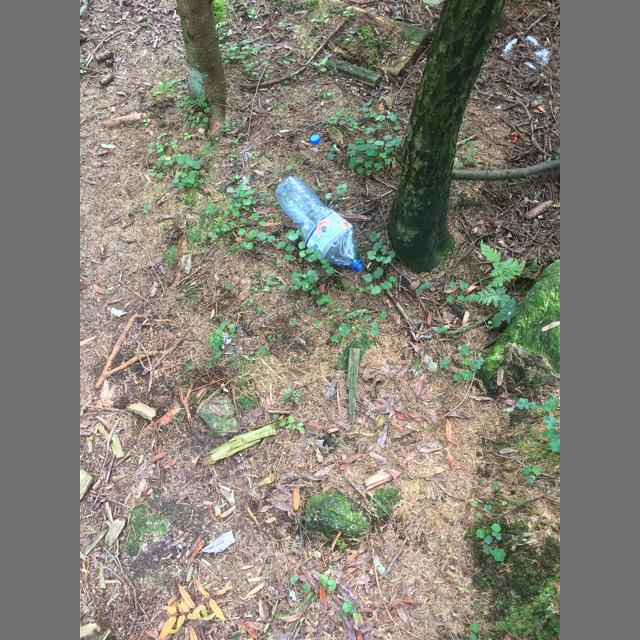litter: (275, 176, 364, 272), (310, 135, 320, 144)
